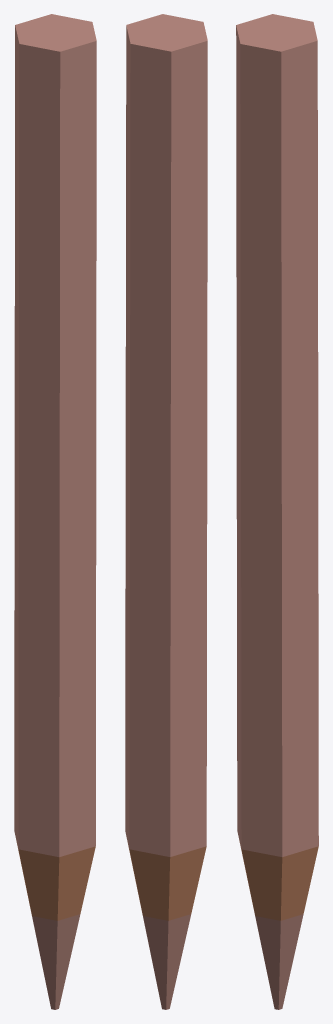
Rendered from pencil_1.fbx.
The picture shows the model from 3 angles, left to right: view 1: azimuth 90°, elevation 25°; view 2: azimuth 150°, elevation 25°; view 3: azimuth 330°, elevation 25°; orthographic projection.
Parts seen in each view (by area): view 1: Pencil; view 2: Pencil; view 3: Pencil.
Part boxes in pixels (x1,y1,x2,y2): Pencil: (14,14,96,1009); Pencil: (125,14,207,1009); Pencil: (236,14,318,1009).
Size of the model in its own units: 3.24 by 38.69 by 2.96.
